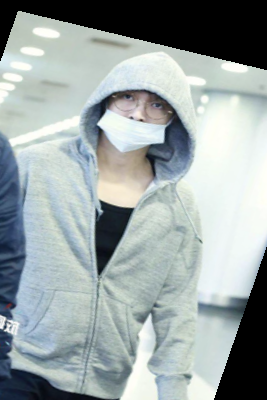mask_weared_incorrect: (78, 42, 216, 182)
